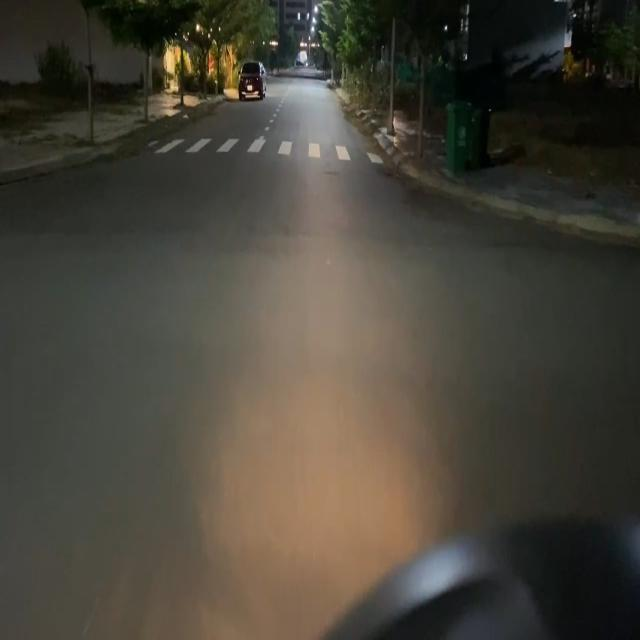walk-crossing: (137, 132, 393, 165)
